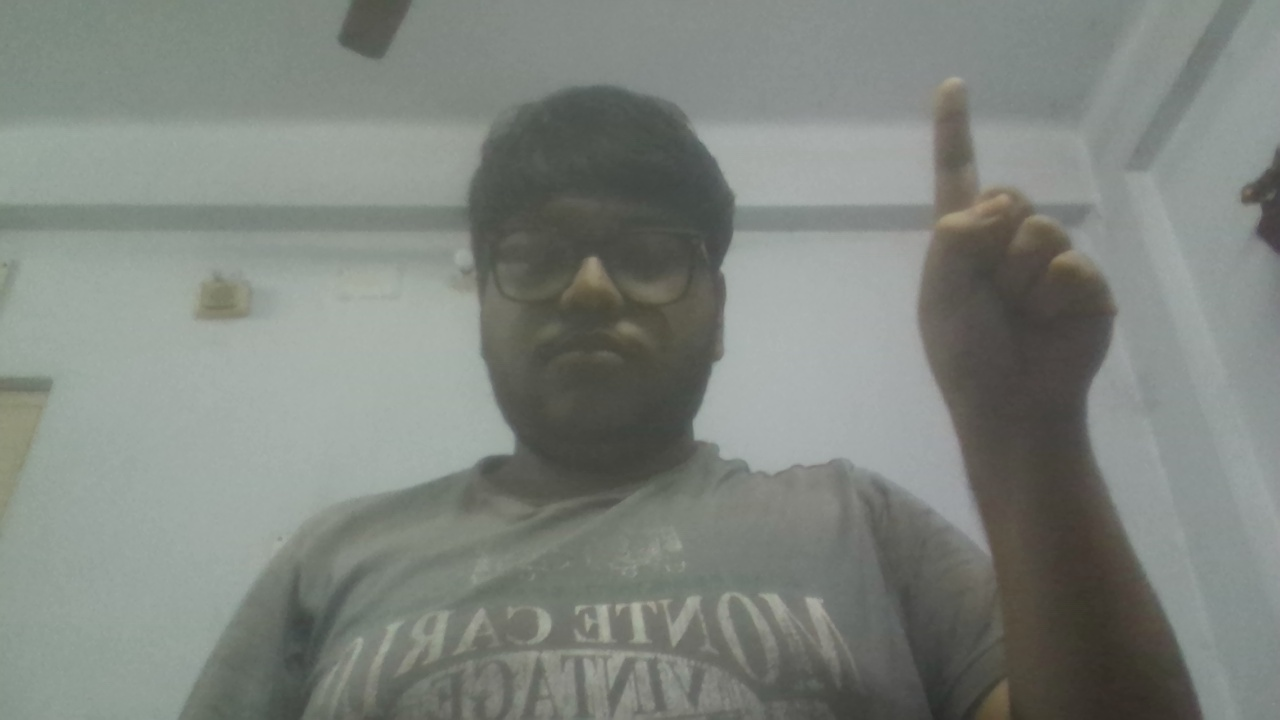Gesture1: (906, 67, 1130, 448)
